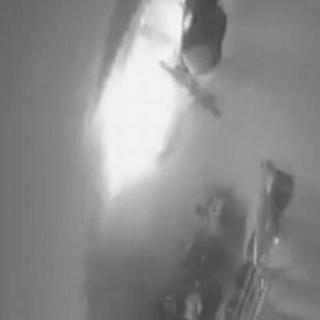Fire: (89, 3, 203, 207)
